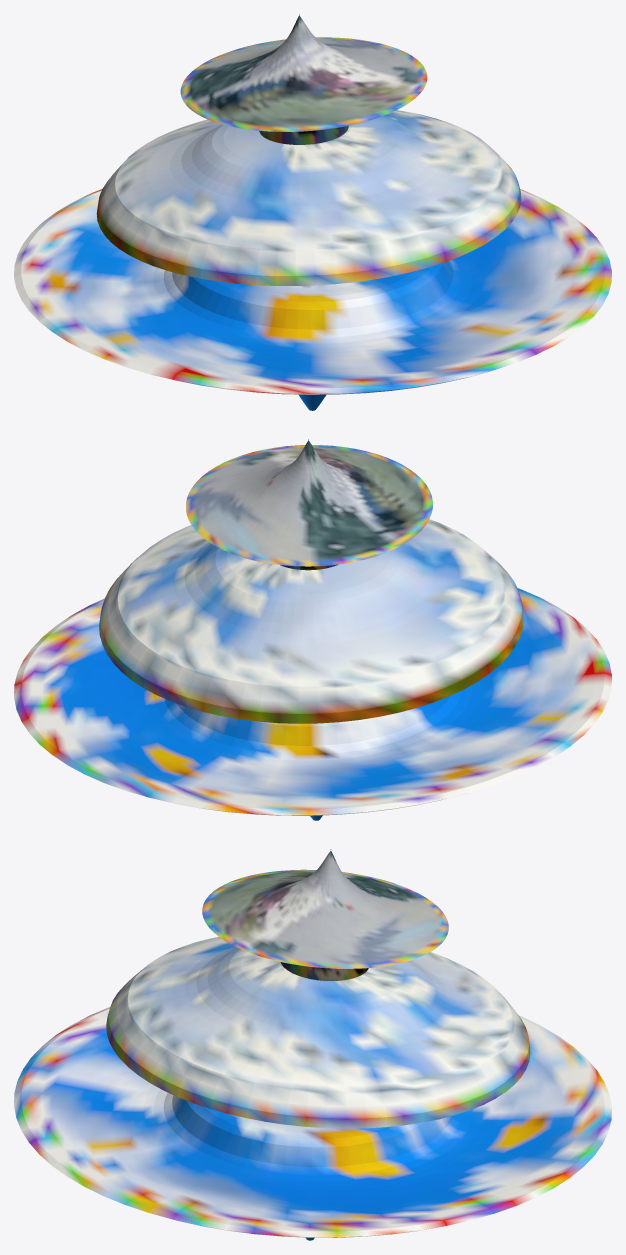
File: omgnowtrythis.glb
The picture shows the model from 3 angles, top to bottom: view 1: azimuth 30°, elevation 25°; view 2: azimuth 150°, elevation 25°; view 3: azimuth 270°, elevation 25°; orthographic projection.
Parts seen in each view (by area): view 1: Lathe 4, Lathe 3, Lathe, Lathe.001; view 2: Lathe 4, Lathe 3, Lathe; view 3: Lathe 4, Lathe 3, Lathe, Lathe.001.
Boxes of the visible parts, x1,y1,x2,y2 form: Lathe 4: (14,189,611,410); Lathe 3: (96,110,521,285); Lathe: (180,14,427,131); Lathe.001: (259,126,348,144); Lathe 4: (14,588,611,820); Lathe 3: (99,519,523,723); Lathe: (186,439,432,566); Lathe 4: (14,1007,611,1240); Lathe 3: (106,937,530,1128); Lathe: (202,849,448,968); Lathe.001: (280,962,368,980).
Bounding box in the file's own units: 6.64 × 4.76 × 6.64.
